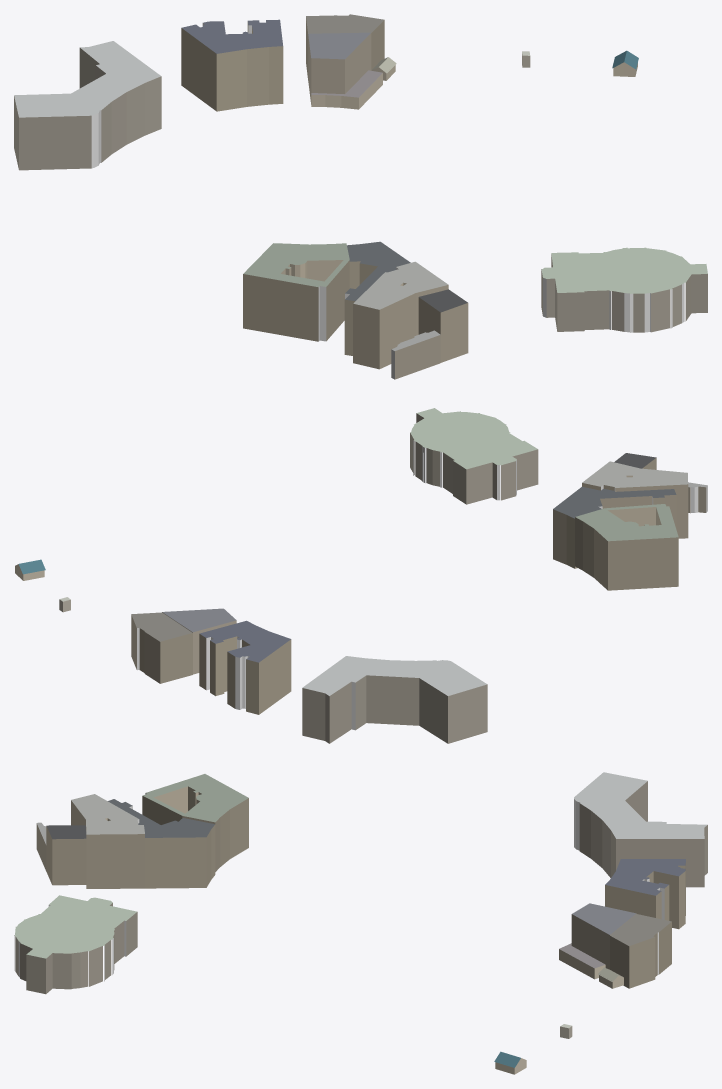
3 renders of one model, top to bottom at view 1: azimuth 30°, elevation 25°; view 2: azimuth 150°, elevation 25°; view 3: azimuth 270°, elevation 25°, orthographic. The views are drawn at different scales.
Parts seen in each view (by area): view 1: tuile; view 2: tuile; view 3: tuile.
Boxes of the visible parts, x1,y1,x2,y2 form: tuile: (14,14,707,379); tuile: (15,408,707,743); tuile: (14,772,707,1074).
Bounding box in the file's own units: 246 × 25.56 × 283.
